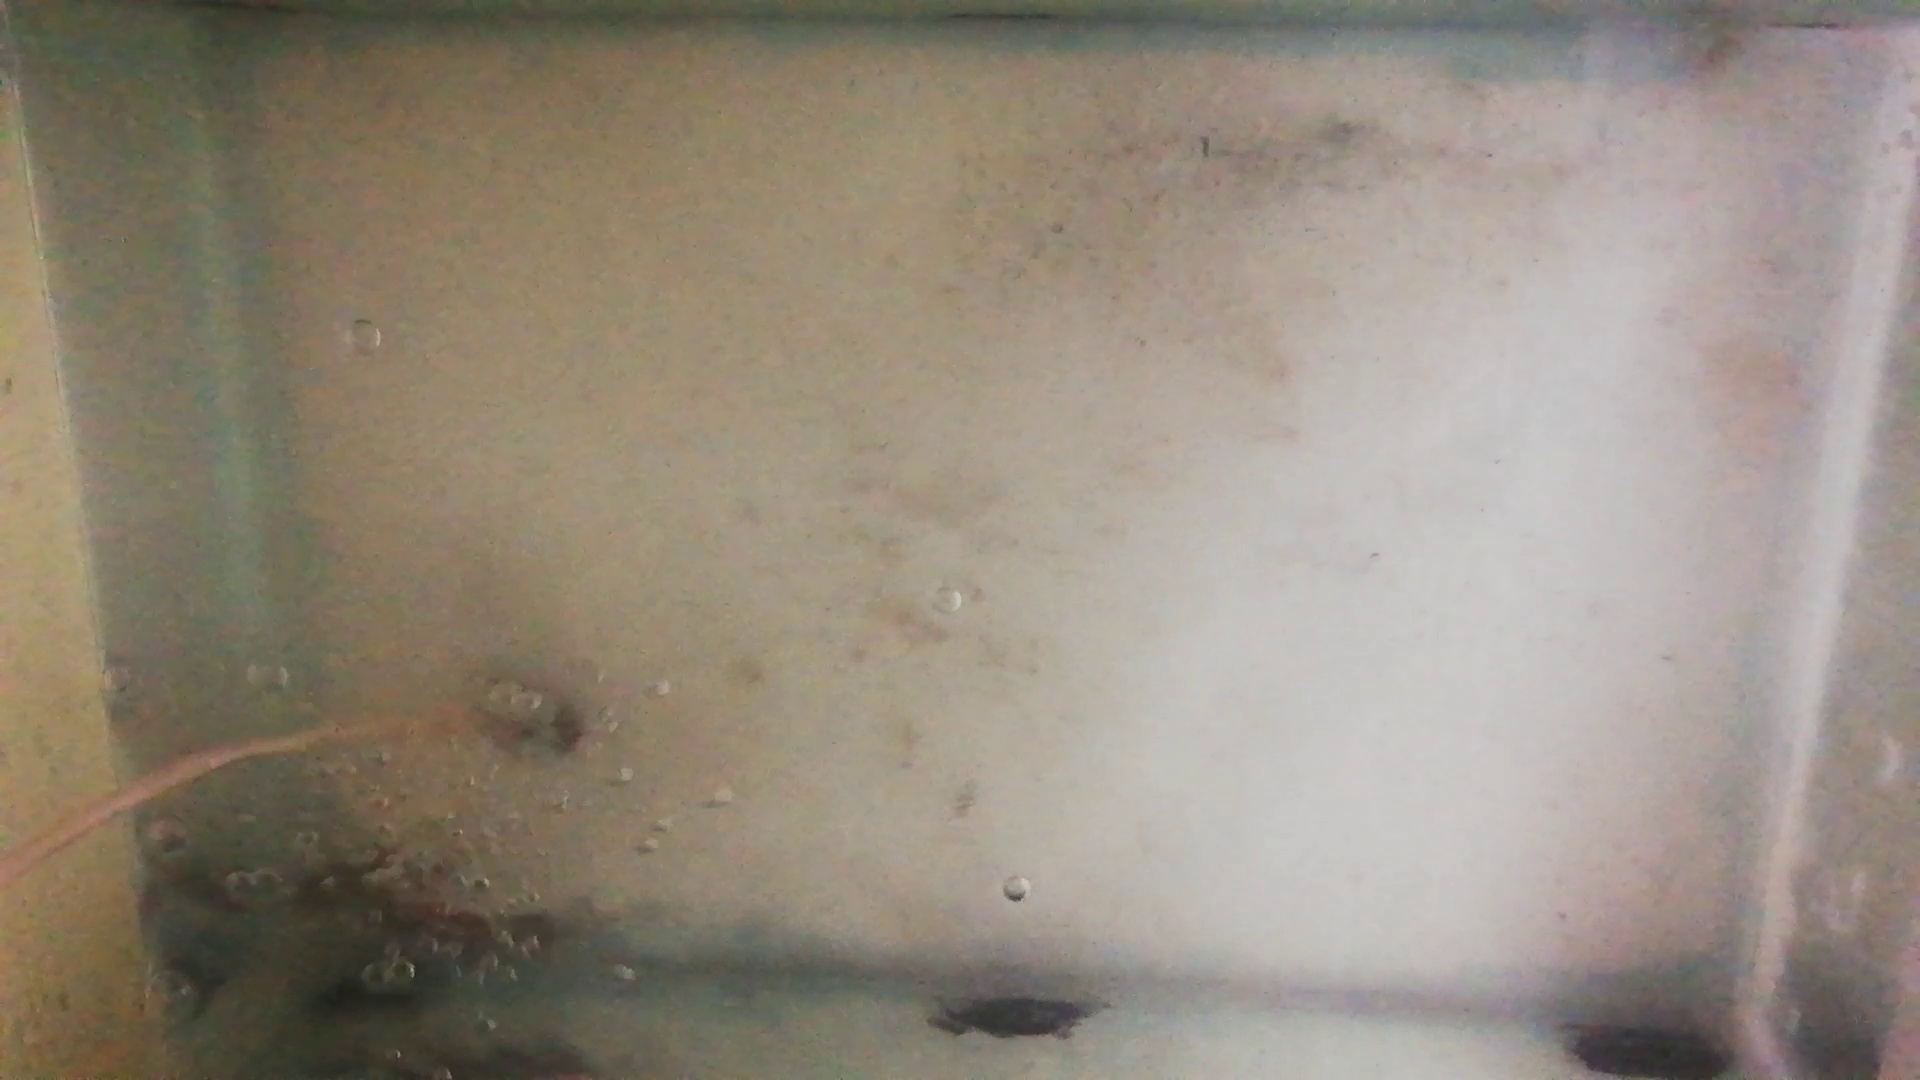fish: (298, 847, 448, 906), (361, 901, 554, 945)
